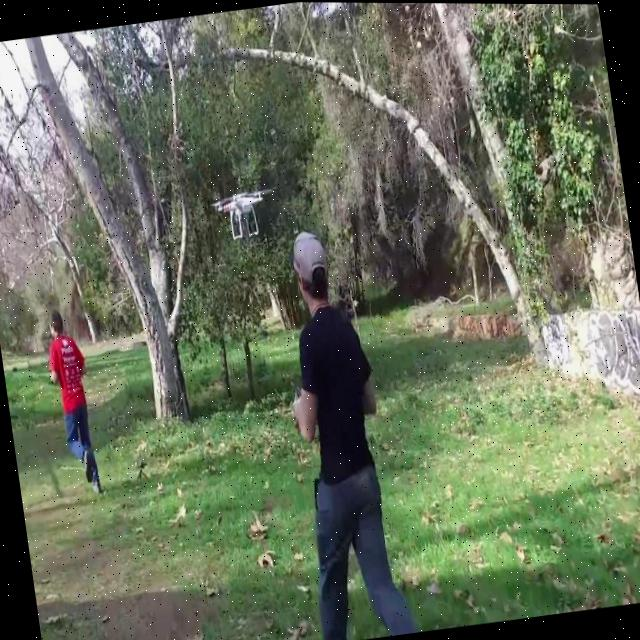drone: (207, 180, 280, 245)
